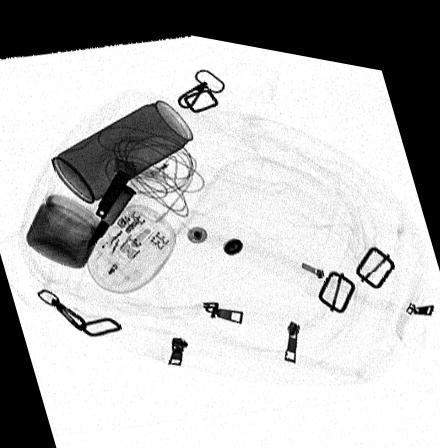Bullet: (84, 178, 134, 249)
